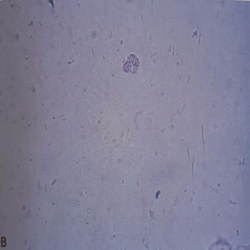Bacteria: (119, 49, 144, 79)
